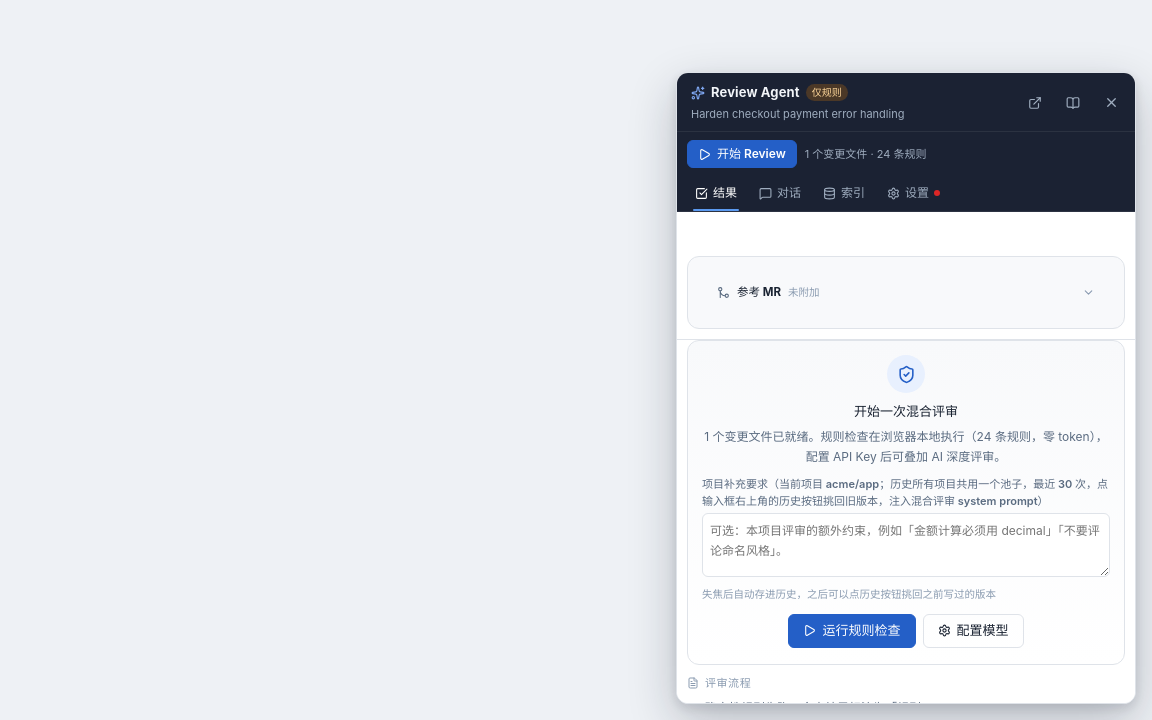
Test: 行内位置 409 不再直接降级全文：重拉 diff_refs 重锚后重发 › 单条发布：MR 被 push 过也保住行内评论，用户看不到降级提示
The image size is (1152, 720).
Click the button "开始 Review" at (742, 154), box [687,140,797,168]
(page scrolled)
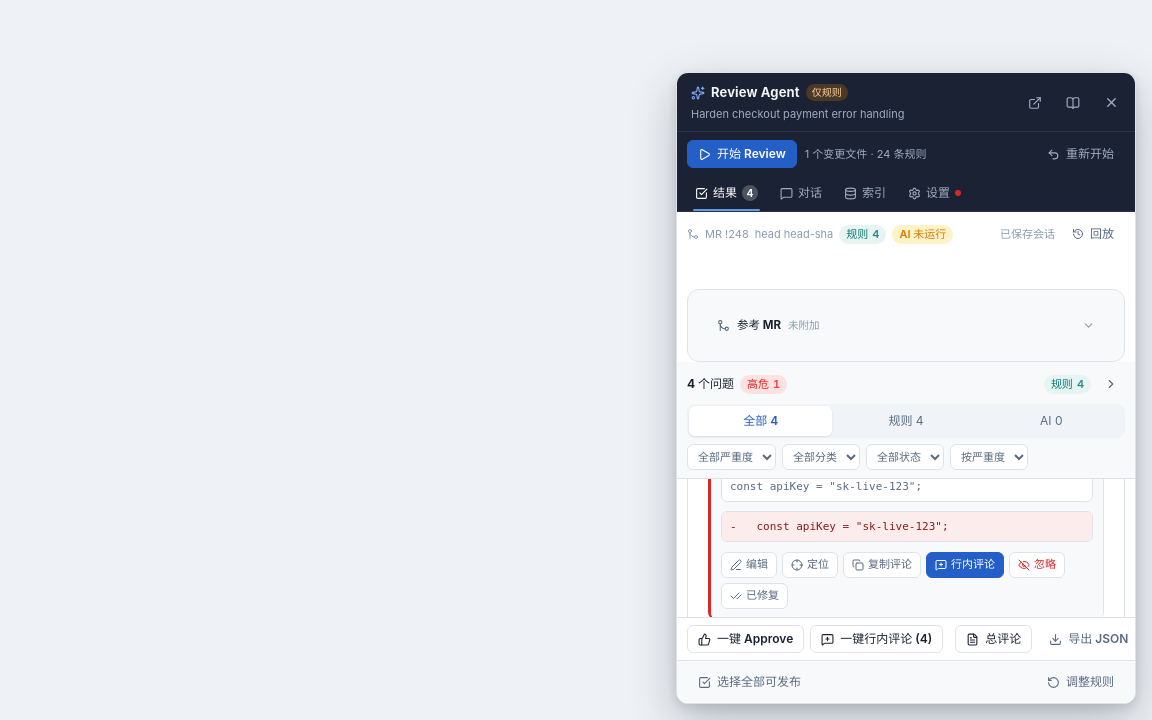
Click the button "行内评论" at (965, 565), box [926,552,1004,578]
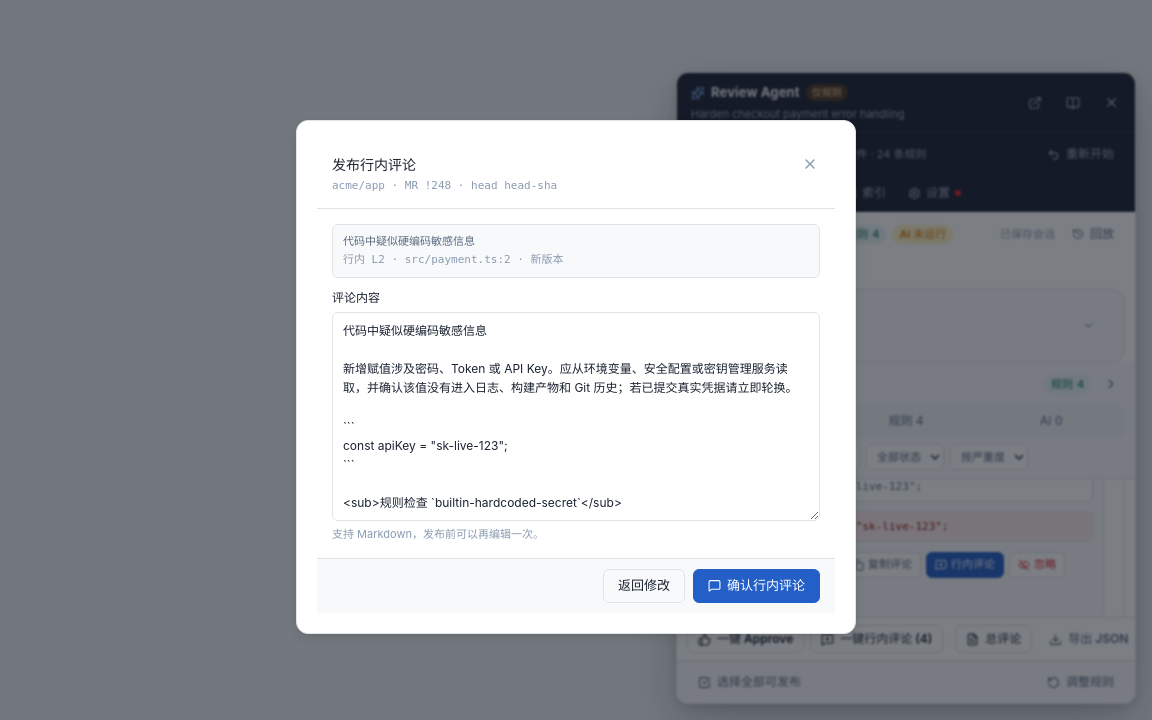
Click the button "确认行内评论" at (756, 586), box [693,569,820,603]
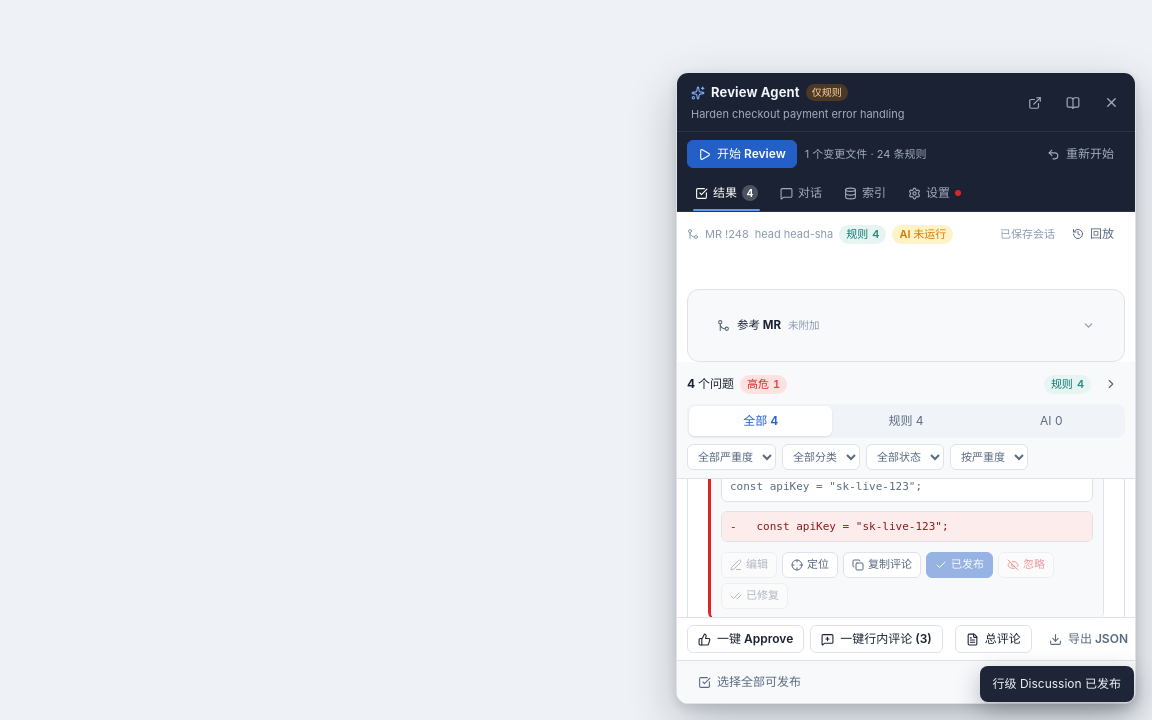
Expected: the message reads "行级 Discussion 已发布", [992,676,1121,691]
